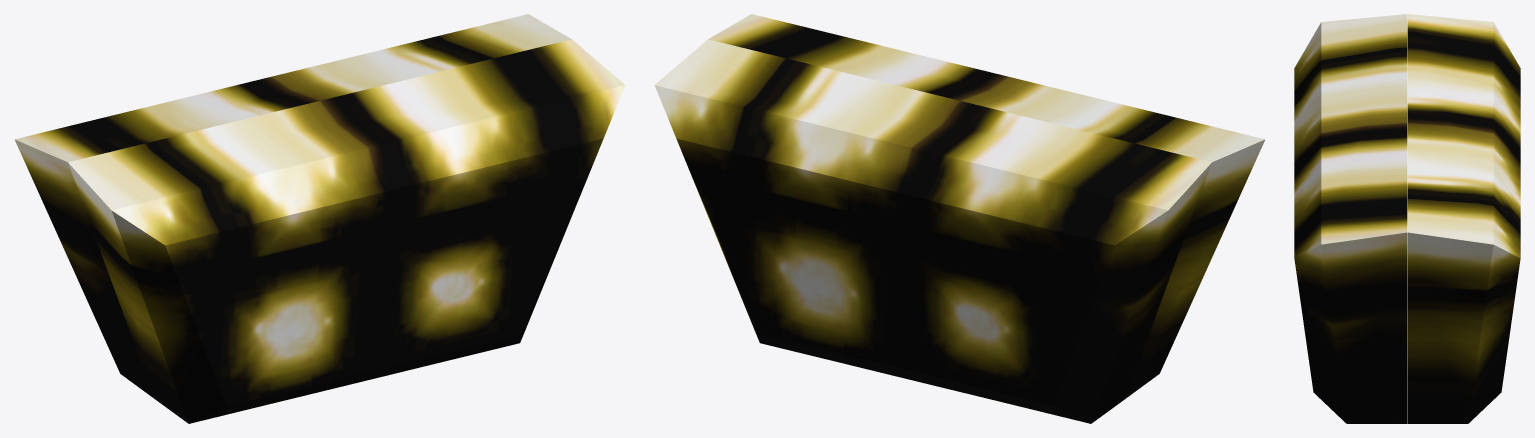
Rendered from datan_common_0c26b6d6.obj.
3 renders of one model, left to right at view 1: azimuth 30°, elevation 25°; view 2: azimuth 150°, elevation 25°; view 3: azimuth 270°, elevation 25°, orthographic. The views are drawn at different scales.
Visible parts, largest first — view 1: datan_common_0c26b6d6; view 2: datan_common_0c26b6d6; view 3: datan_common_0c26b6d6.
Part boxes in pixels (<box>): datan_common_0c26b6d6: <box>14,14,625,423</box>; datan_common_0c26b6d6: <box>654,14,1265,423</box>; datan_common_0c26b6d6: <box>1294,14,1520,423</box>.
Bounding box in the file's own units: 8.78 × 4.21 × 3.77.
Materials: 1 (1 with a texture image).
